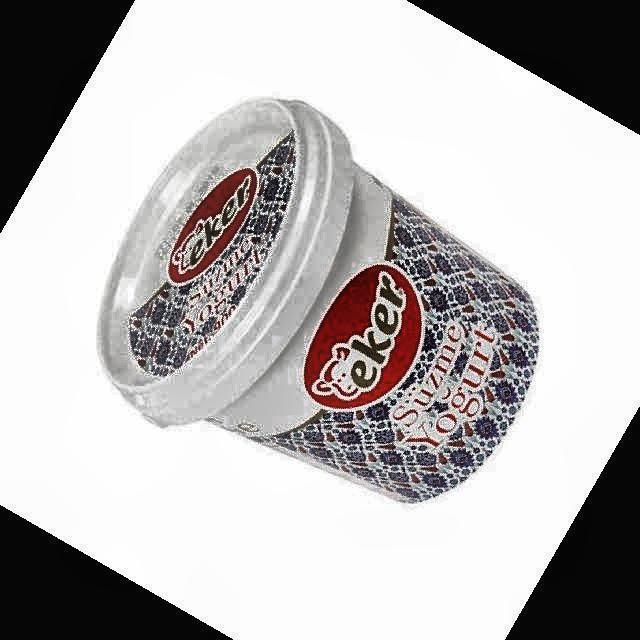plastic: (99, 99, 540, 502)
